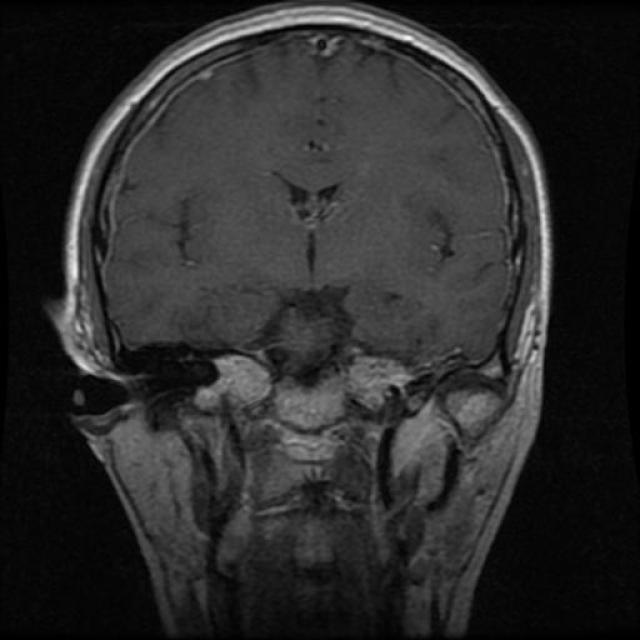brain_tumor: (274, 314, 345, 429)
